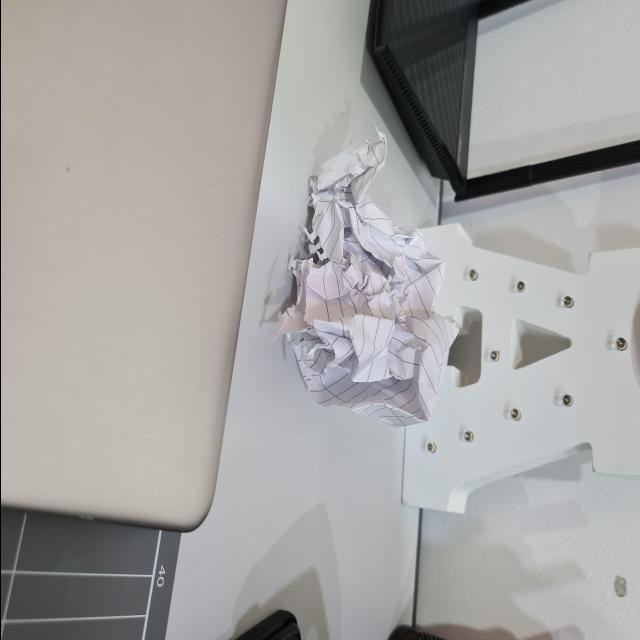kertas: (290, 136, 451, 431)
